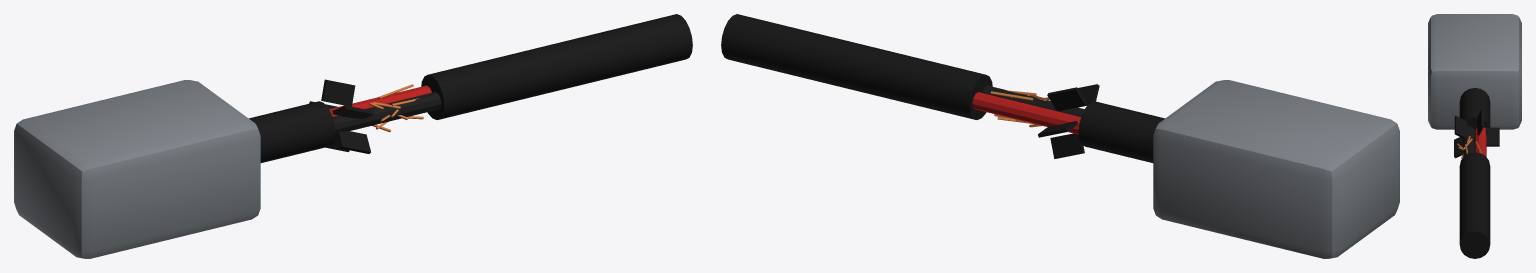
Rendered from charger-cable-frayed-bfe467e095.glb.
The picture shows the model from 3 angles, left to right: view 1: azimuth 30°, elevation 25°; view 2: azimuth 150°, elevation 25°; view 3: azimuth 270°, elevation 25°; orthographic projection. The views are drawn at different scales.
Parts seen in each view (by area): view 1: core0; view 2: core0; view 3: core0.
Boxes of the visible parts, x1,y1,x2,y2 form: core0: [14, 14, 692, 258]; core0: [721, 14, 1399, 258]; core0: [1428, 14, 1521, 258].
Bounding box in the file's own units: 0.41 × 0.06 × 0.08.
